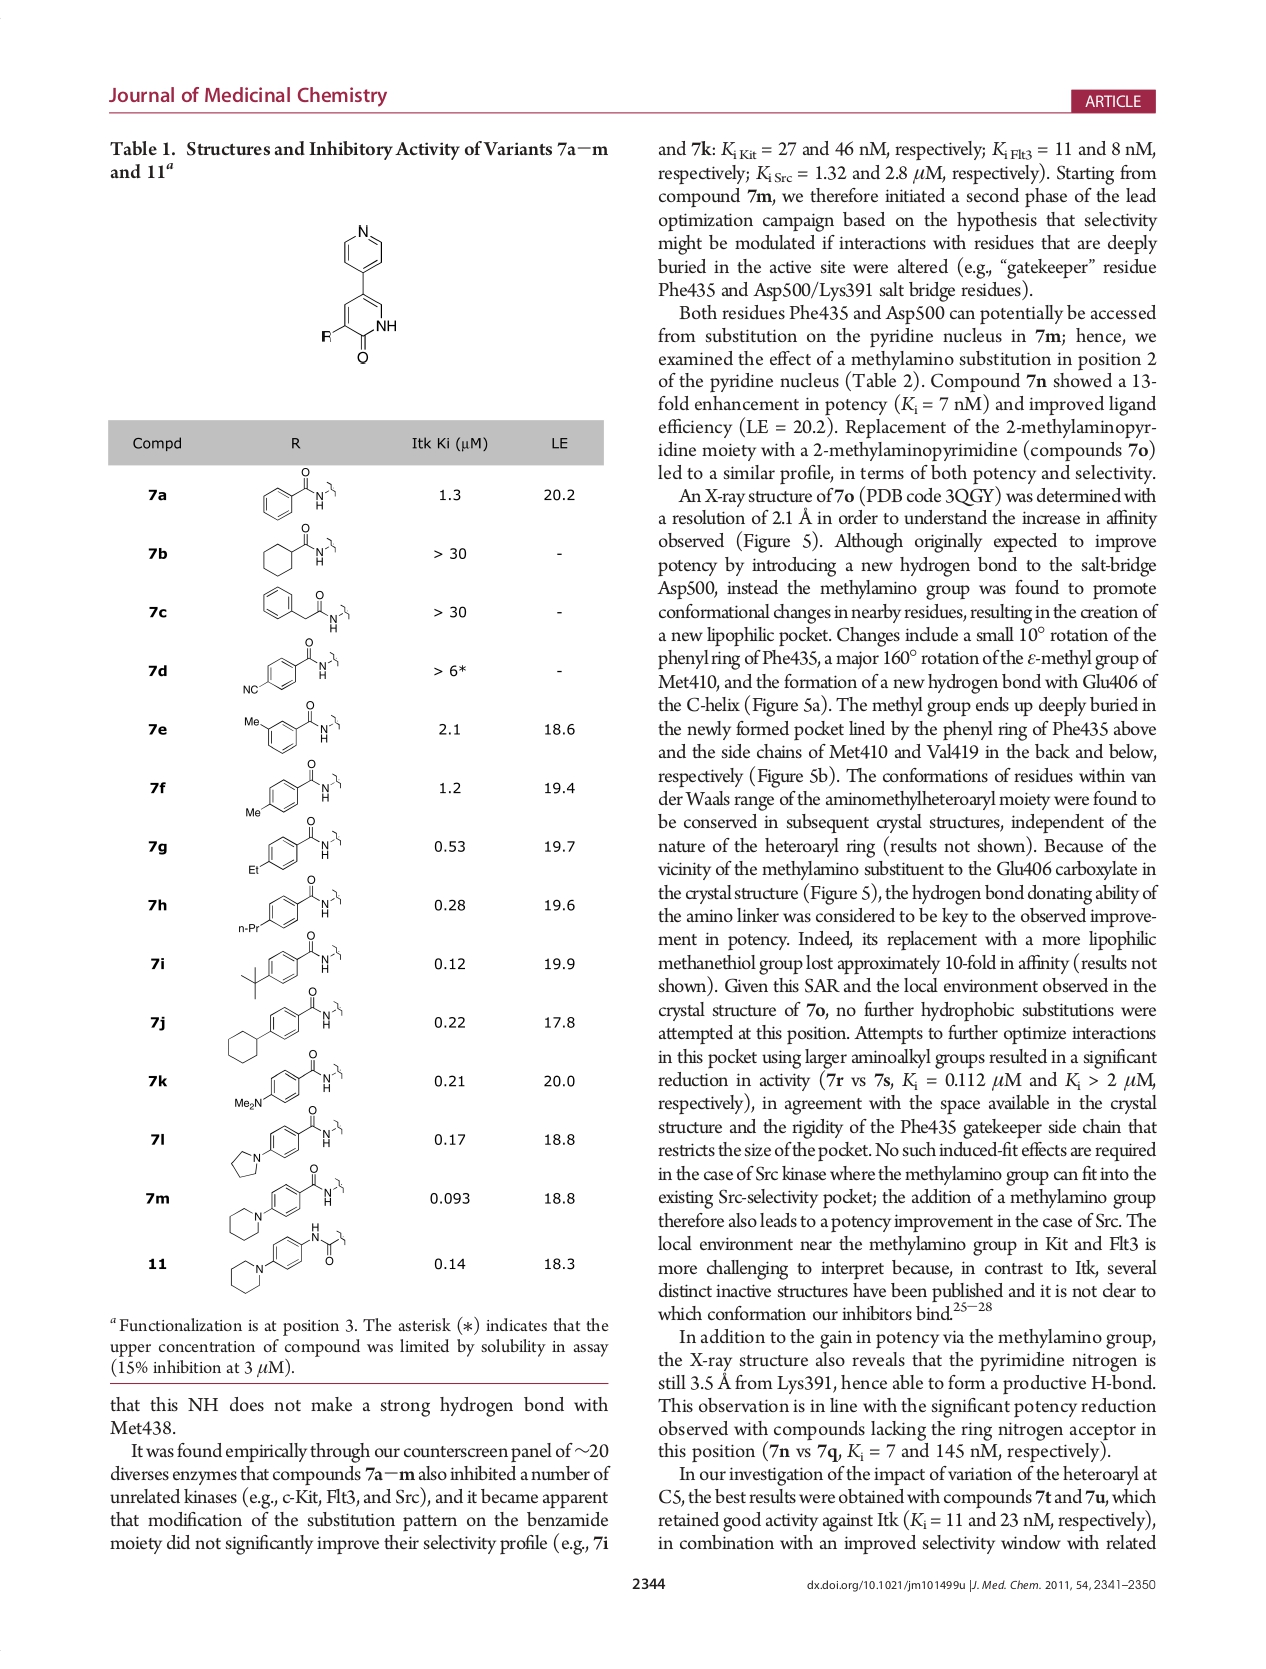exist_molecular: (315, 210, 410, 368), (225, 1162, 348, 1241), (226, 985, 346, 1064), (227, 1220, 348, 1294), (227, 1102, 344, 1178), (231, 1047, 344, 1110), (238, 931, 344, 997), (242, 757, 343, 817), (237, 876, 344, 932), (241, 697, 342, 755), (242, 636, 340, 696), (245, 817, 342, 876), (259, 521, 340, 580), (261, 582, 351, 634), (258, 465, 338, 520)
